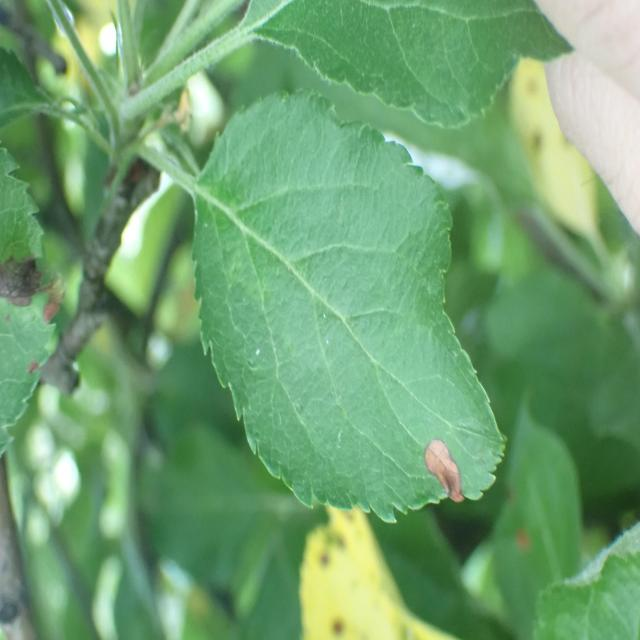Black Rot: (419, 428, 474, 516)
